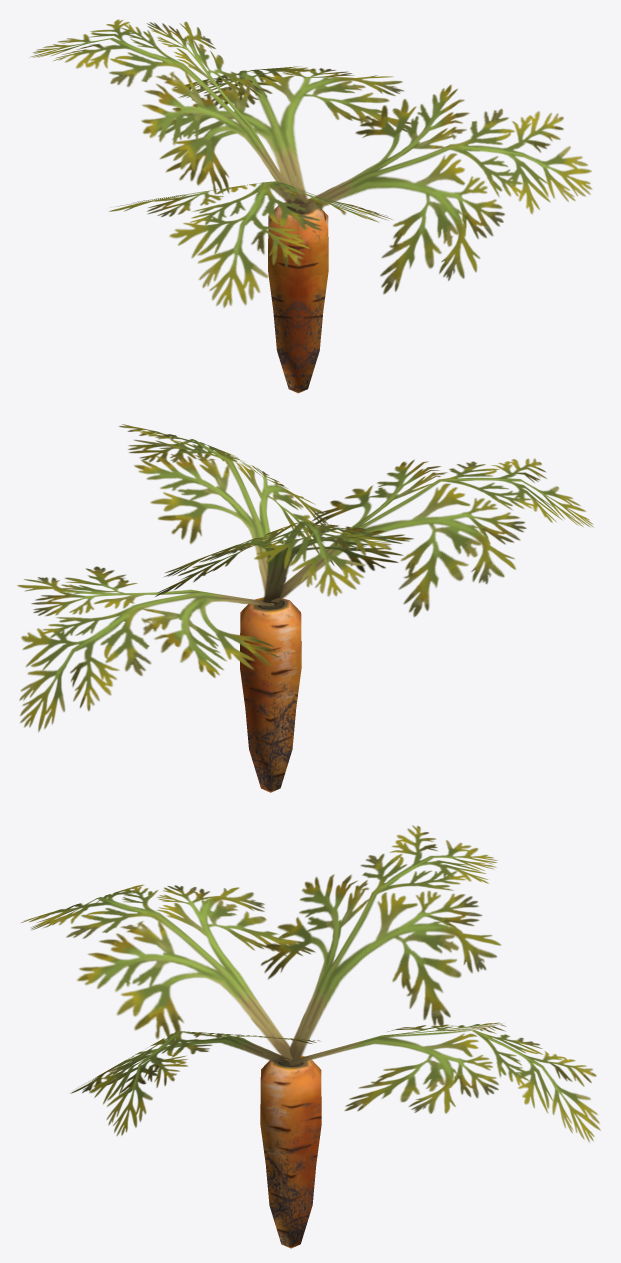
Rendered from plant_carrot_S4.gltf.
3 renders of one model, top to bottom at view 1: azimuth 30°, elevation 25°; view 2: azimuth 150°, elevation 25°; view 3: azimuth 270°, elevation 25°, orthographic.
Visible parts, largest first — view 1: plant_carrot_S4; view 2: plant_carrot_S4; view 3: plant_carrot_S4.
Part boxes in pixels (left/top/right/bottom): plant_carrot_S4: left=29, top=19, right=592, bottom=393; plant_carrot_S4: left=17, top=424, right=593, bottom=792; plant_carrot_S4: left=21, top=825, right=600, bottom=1248.
Bounding box in the file's own units: 0.5668 × 0.4051 × 0.6492.
Materials: 1 (1 with a texture image).
